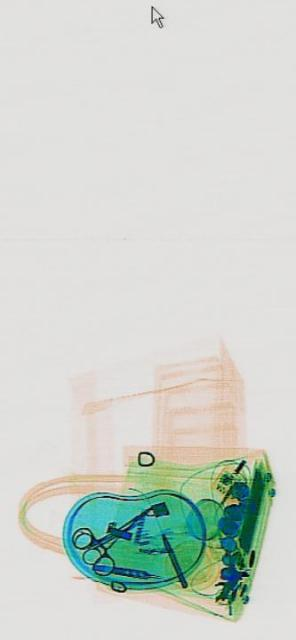Scissors: (68, 481, 157, 592), (72, 508, 124, 572)
